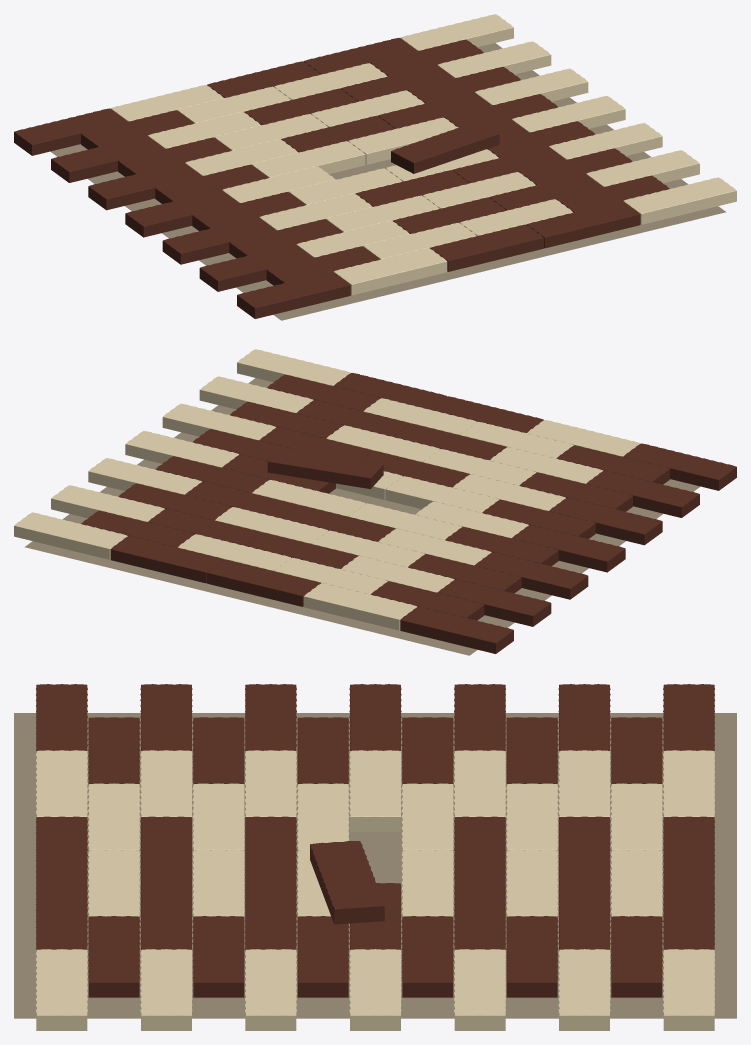
Rendered from terilgan.glb.
The picture shows the model from 3 angles, top to bottom: view 1: azimuth 30°, elevation 25°; view 2: azimuth 150°, elevation 25°; view 3: azimuth 270°, elevation 25°; orthographic projection. The views are drawn at different scales.
Visible parts, largest first — view 1: qum, t, t.029, t.001, t.004, t.002, t.003, t.009, t.036, t.027, t.045, t.018 (+47 smaller); view 2: qum, t.029, t.054, t.055, t.058, t.056, t.057, t.045, t.018, t.027, t.009, t.036 (+48 smaller); view 3: qum, t.029, t.017, t.044, t.035, t.008, t.053, t.004, t.022, t.040, t.058, t.013 (+48 smaller).
Part boxes in pixels (left/top/right/bottom): qum: left=50, top=43, right=726, bottom=320; t: left=237, top=271, right=350, bottom=318; t.029: left=391, top=122, right=499, bottom=173; t.001: left=333, top=248, right=447, bottom=295; t.004: left=623, top=177, right=736, bottom=224; t.002: left=430, top=224, right=543, bottom=271; t.003: left=526, top=201, right=640, bottom=248; t.009: left=199, top=244, right=313, bottom=291; t.036: left=88, top=163, right=201, bottom=210; t.027: left=125, top=190, right=238, bottom=237; t.045: left=51, top=135, right=164, bottom=182; t.018: left=162, top=217, right=275, bottom=264; qum: left=24, top=378, right=700, bottom=655; t.029: left=267, top=447, right=383, bottom=489; t.054: left=400, top=606, right=513, bottom=653; t.055: left=303, top=583, right=417, bottom=630; t.058: left=14, top=512, right=127, bottom=559; t.056: left=207, top=559, right=320, bottom=606; t.057: left=110, top=536, right=224, bottom=583; t.045: left=437, top=579, right=551, bottom=626; t.018: left=549, top=498, right=662, bottom=545; t.027: left=512, top=525, right=625, bottom=572; t.009: left=586, top=470, right=699, bottom=517; t.036: left=475, top=552, right=588, bottom=599; qum: left=14, top=713, right=736, bottom=1018; t.029: left=310, top=841, right=384, bottom=924; t.017: left=192, top=916, right=244, bottom=997; t.044: left=506, top=916, right=558, bottom=997; t.035: left=401, top=916, right=453, bottom=997; t.008: left=88, top=916, right=140, bottom=997; t.053: left=610, top=916, right=662, bottom=997; t.004: left=36, top=949, right=87, bottom=1030; t.022: left=245, top=949, right=296, bottom=1030; t.040: left=454, top=949, right=505, bottom=1030; t.058: left=663, top=949, right=714, bottom=1030; t.013: left=140, top=949, right=192, bottom=1030.
Bounding box in the file's own units: 1.8 × 0.082 × 1.66.
